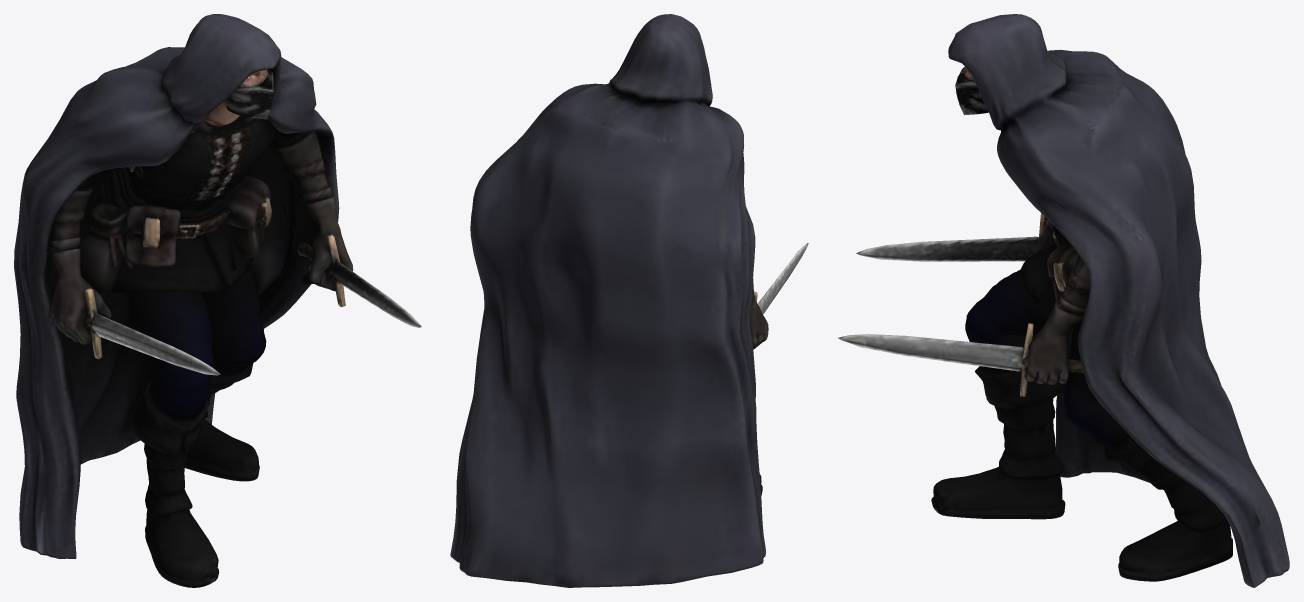
The model's file is MZ4250 - Assassin Male_1_2025.glb.
The picture shows the model from 3 angles, left to right: view 1: azimuth 30°, elevation 25°; view 2: azimuth 150°, elevation 25°; view 3: azimuth 270°, elevation 25°; orthographic projection. The views are drawn at different scales.
Parts seen in each view (by area): view 1: Body.002; view 2: Body.002; view 3: Body.002.
Boxes of the visible parts, x1,y1,x2,y2 form: Body.002: [14, 14, 421, 587]; Body.002: [450, 14, 808, 587]; Body.002: [837, 14, 1289, 587].
Bounding box in the file's own units: 53.51 × 87.32 × 68.97.
Materials: 1 (1 with a texture image).
